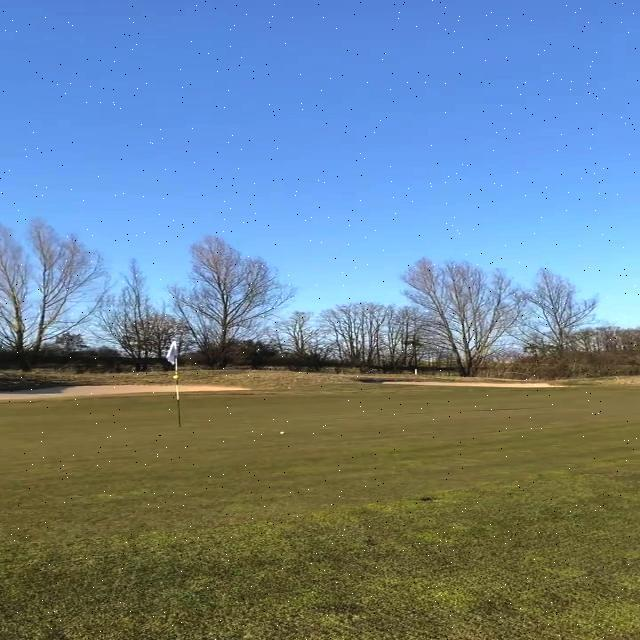golf ball: (281, 432, 284, 434)
